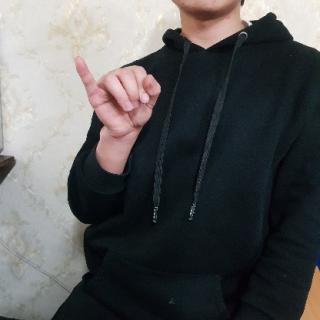MEEM: (69, 50, 168, 140)
